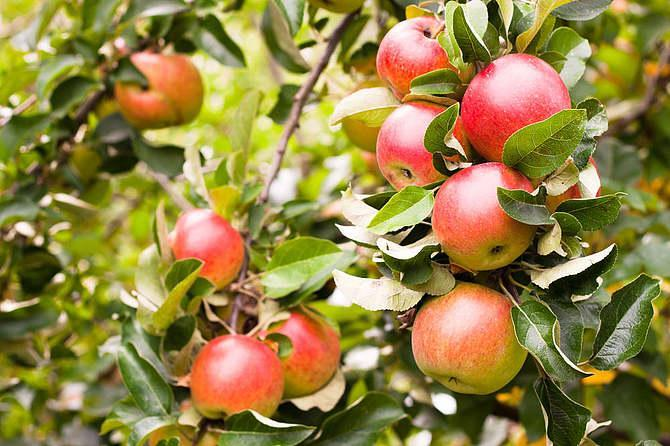apple: (410, 278, 526, 396), (460, 55, 573, 166), (431, 164, 537, 274), (188, 333, 287, 421), (255, 306, 342, 402), (375, 100, 461, 194), (113, 47, 205, 133), (162, 207, 244, 292), (374, 17, 452, 102)
